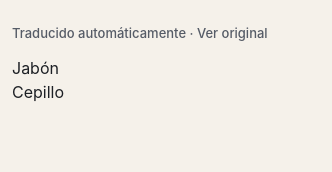
Test: one original toggle flips every translated item and back without altering source
Expected: the text "Jabón" is shown, [12, 58, 59, 78]
What coordinates should you click on to do the following:
click the button "Traducido automáticamente · Ver original"
I would click on:
 (140, 34)
Its box is [12, 12, 268, 56].
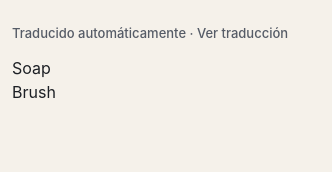
Expected: the text "Soap" is shown, [12, 58, 51, 78]
Expected: the text "Brush" is shown, [12, 82, 56, 102]
What coordinates should you click on to do the following:
click the button "Traducido automáticamente · Ver traducción"
I would click on:
 (150, 34)
Its box is [12, 12, 288, 56].
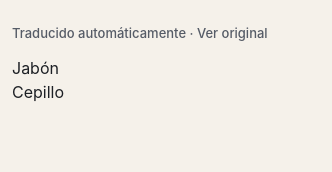
Expected: the text "Jabón" is shown, [12, 58, 59, 78]
Expected: the text "Cepillo" is shown, [12, 82, 64, 102]
